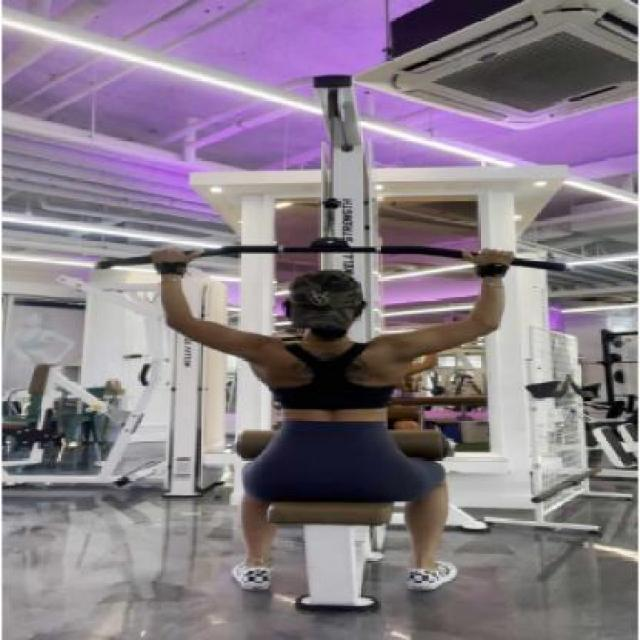Lat Pull Down: (77, 60, 600, 628)
